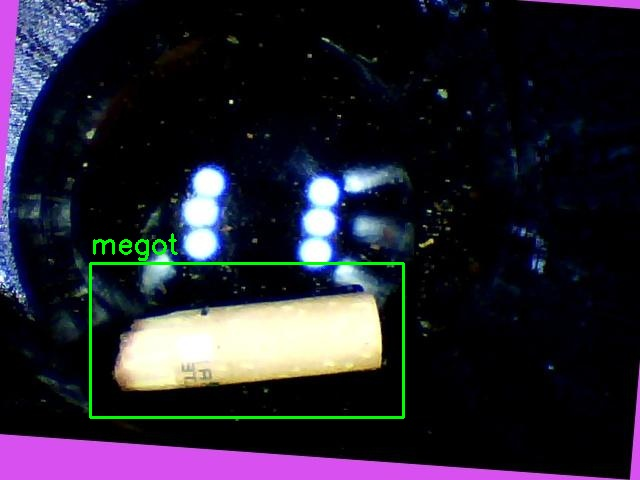megot: (90, 263, 403, 417)
